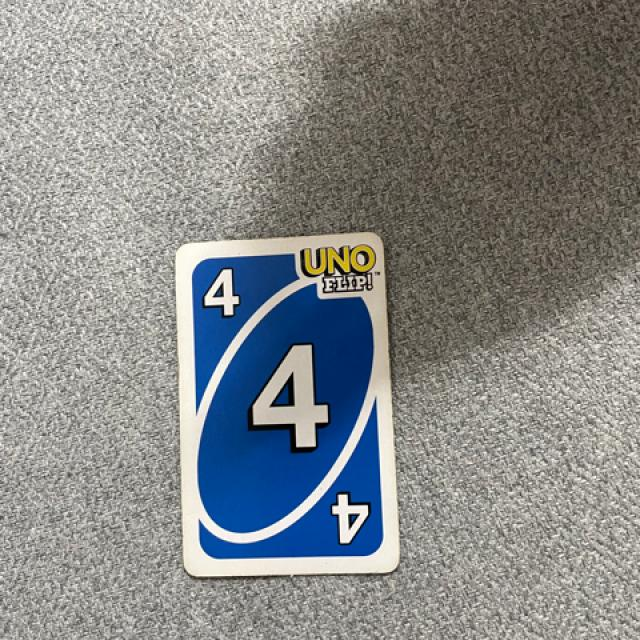lblue-4: (189, 251, 250, 339)
